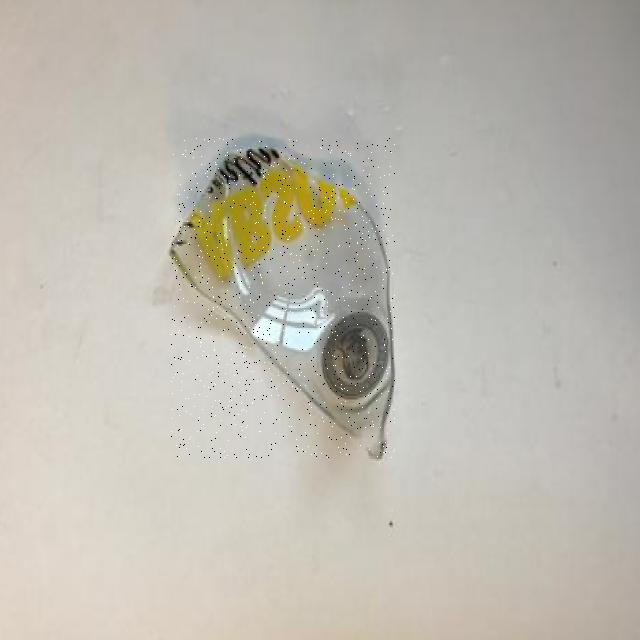glass: (171, 139, 395, 458)
